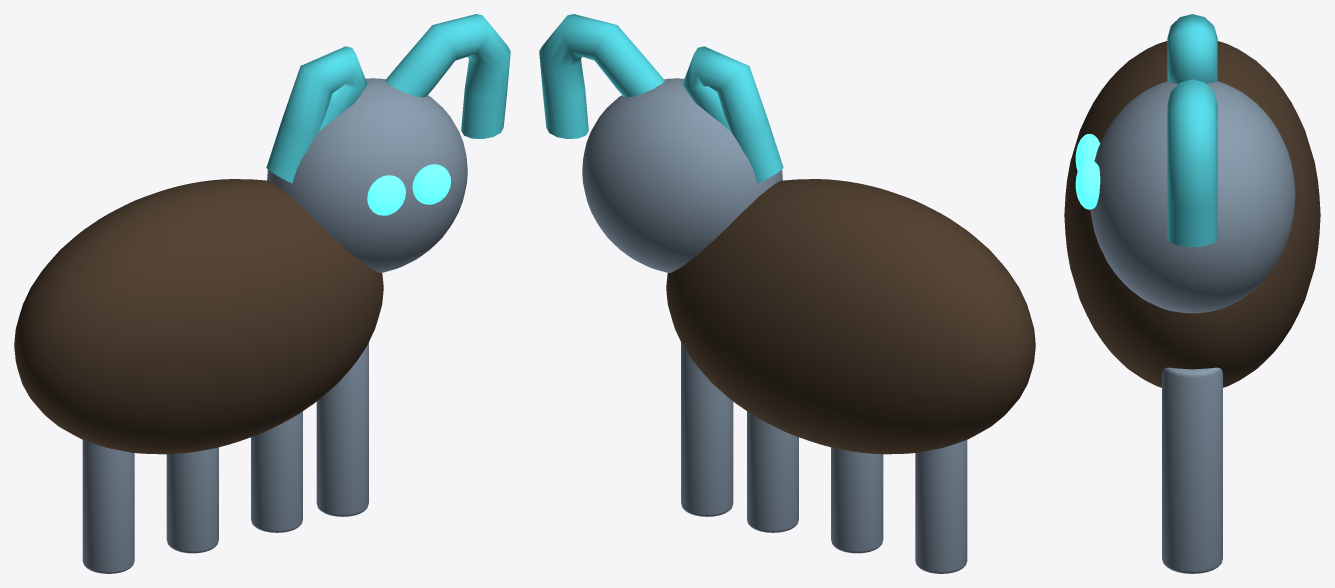
Rendered from beast_v7.glb.
The picture shows the model from 3 angles, left to right: view 1: azimuth 30°, elevation 25°; view 2: azimuth 150°, elevation 25°; view 3: azimuth 270°, elevation 25°; orthographic projection. The views are drawn at different scales.
Visible parts, largest first — view 1: RAM_BODY_SECONDARY, RAM_HEAD_PRIMARY, RAM_HORN_ACCENT.001, RAM_LEG_PRIMARY.003, RAM_LEG_PRIMARY, RAM_HORN_ACCENT, RAM_LEG_PRIMARY.002, RAM_LEG_PRIMARY.001, EYE_EMISSIVE, EYE_EMISSIVE.001; view 2: RAM_BODY_SECONDARY, RAM_HEAD_PRIMARY, RAM_HORN_ACCENT.001, RAM_LEG_PRIMARY.003, RAM_LEG_PRIMARY, RAM_HORN_ACCENT, RAM_LEG_PRIMARY.002, RAM_LEG_PRIMARY.001; view 3: RAM_HEAD_PRIMARY, RAM_BODY_SECONDARY, RAM_LEG_PRIMARY.003, RAM_HORN_ACCENT.001, RAM_HORN_ACCENT, EYE_EMISSIVE.001, EYE_EMISSIVE.
Boxes of the visible parts, left/top/right/bottom form: RAM_BODY_SECONDARY: left=14, top=179, right=383, bottom=454; RAM_HEAD_PRIMARY: left=267, top=78, right=467, bottom=272; RAM_HORN_ACCENT.001: left=385, top=14, right=510, bottom=138; RAM_LEG_PRIMARY.003: left=316, top=342, right=368, bottom=516; RAM_LEG_PRIMARY: left=82, top=440, right=134, bottom=573; RAM_HORN_ACCENT: left=266, top=46, right=367, bottom=183; RAM_LEG_PRIMARY.002: left=251, top=411, right=302, bottom=532; RAM_LEG_PRIMARY.001: left=166, top=447, right=218, bottom=553; EYE_EMISSIVE: left=367, top=175, right=405, bottom=215; EYE_EMISSIVE.001: left=412, top=164, right=450, bottom=204; RAM_BODY_SECONDARY: left=666, top=179, right=1035, bottom=454; RAM_HEAD_PRIMARY: left=582, top=78, right=782, bottom=272; RAM_HORN_ACCENT.001: left=539, top=14, right=664, bottom=138; RAM_LEG_PRIMARY.003: left=681, top=342, right=733, bottom=516; RAM_LEG_PRIMARY: left=915, top=440, right=967, bottom=573; RAM_HORN_ACCENT: left=682, top=46, right=783, bottom=183; RAM_LEG_PRIMARY.002: left=747, top=411, right=798, bottom=532; RAM_LEG_PRIMARY.001: left=831, top=447, right=883, bottom=553; RAM_HEAD_PRIMARY: left=1090, top=81, right=1295, bottom=313; RAM_BODY_SECONDARY: left=1064, top=41, right=1320, bottom=387; RAM_LEG_PRIMARY.003: left=1162, top=367, right=1222, bottom=573; RAM_HORN_ACCENT.001: left=1167, top=79, right=1217, bottom=247; RAM_HORN_ACCENT: left=1167, top=14, right=1217, bottom=83; EYE_EMISSIVE.001: left=1075, top=159, right=1100, bottom=209; EYE_EMISSIVE: left=1075, top=134, right=1100, bottom=170.
Size of the model in its own units: 2.36 by 2.13 by 0.92.
